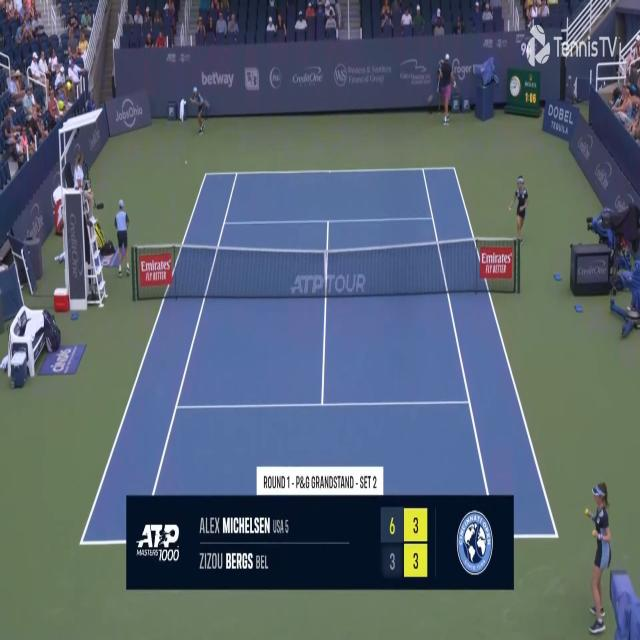tennis-player: (439, 49, 457, 124)
